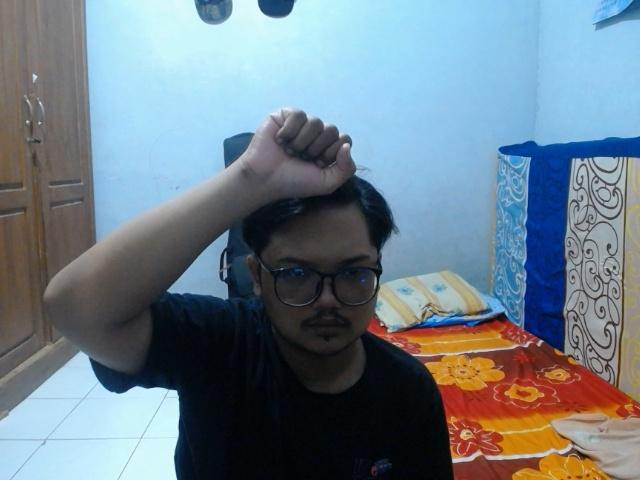Grab: (229, 104, 360, 203)
